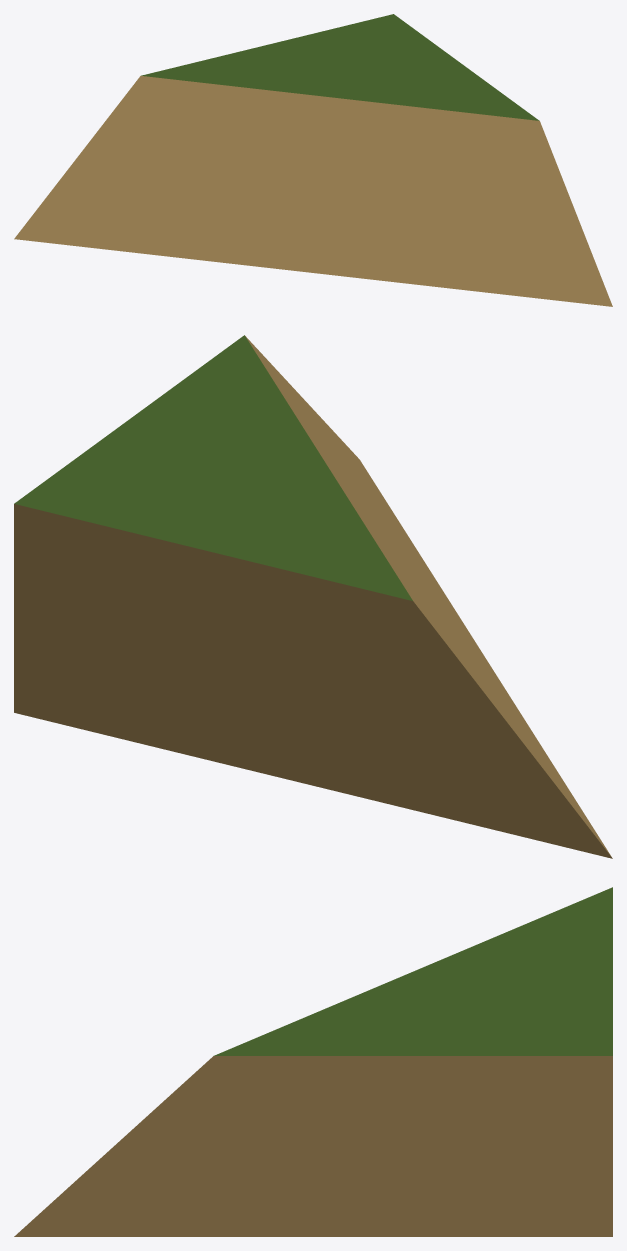
Rendered from Terrain_Tile_Grass_Dirt_Ledge_Corner_02.fbx.
3 views of the same model, one above another, from view 1: azimuth 30°, elevation 25°; view 2: azimuth 150°, elevation 25°; view 3: azimuth 270°, elevation 25° (orthographic). The views are drawn at different scales.
Visible parts, largest first — view 1: Terrain_Tile_Grass_Dirt_Ledge_Corner_02; view 2: Terrain_Tile_Grass_Dirt_Ledge_Corner_02; view 3: Terrain_Tile_Grass_Dirt_Ledge_Corner_02.
Part boxes in pixels (box(x1,y1,x2,y2)): Terrain_Tile_Grass_Dirt_Ledge_Corner_02: box(14, 14, 612, 306); Terrain_Tile_Grass_Dirt_Ledge_Corner_02: box(14, 335, 612, 858); Terrain_Tile_Grass_Dirt_Ledge_Corner_02: box(14, 887, 612, 1236).
Bounding box in the file's own units: 47.24 × 15.75 × 47.24.
